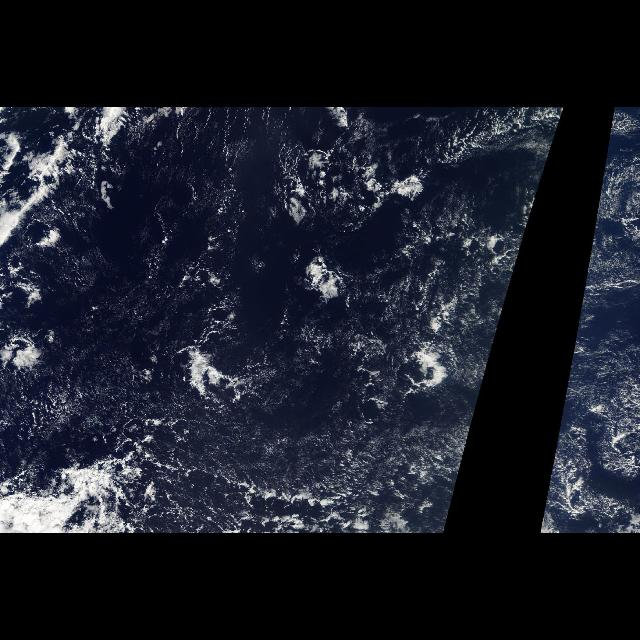Gravel: (2, 109, 564, 532), (539, 109, 637, 532)
Sugar: (114, 400, 458, 486)
